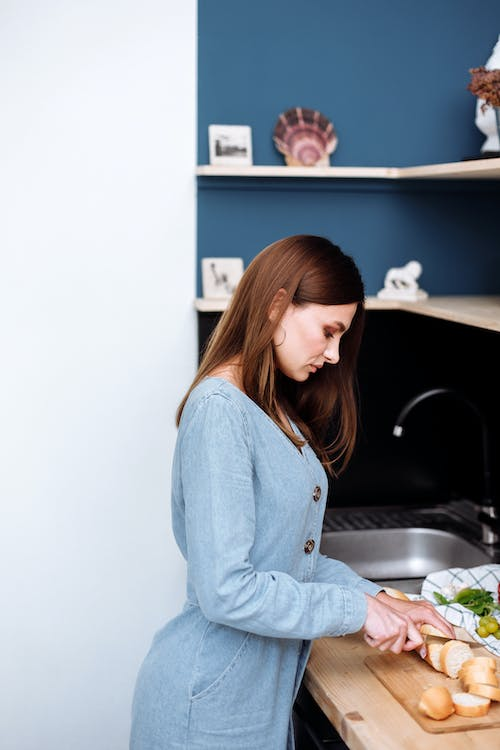knife: (420, 629, 487, 652)
